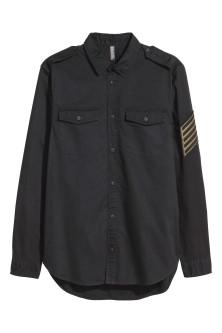teeshirt: (3, 31, 216, 294)
